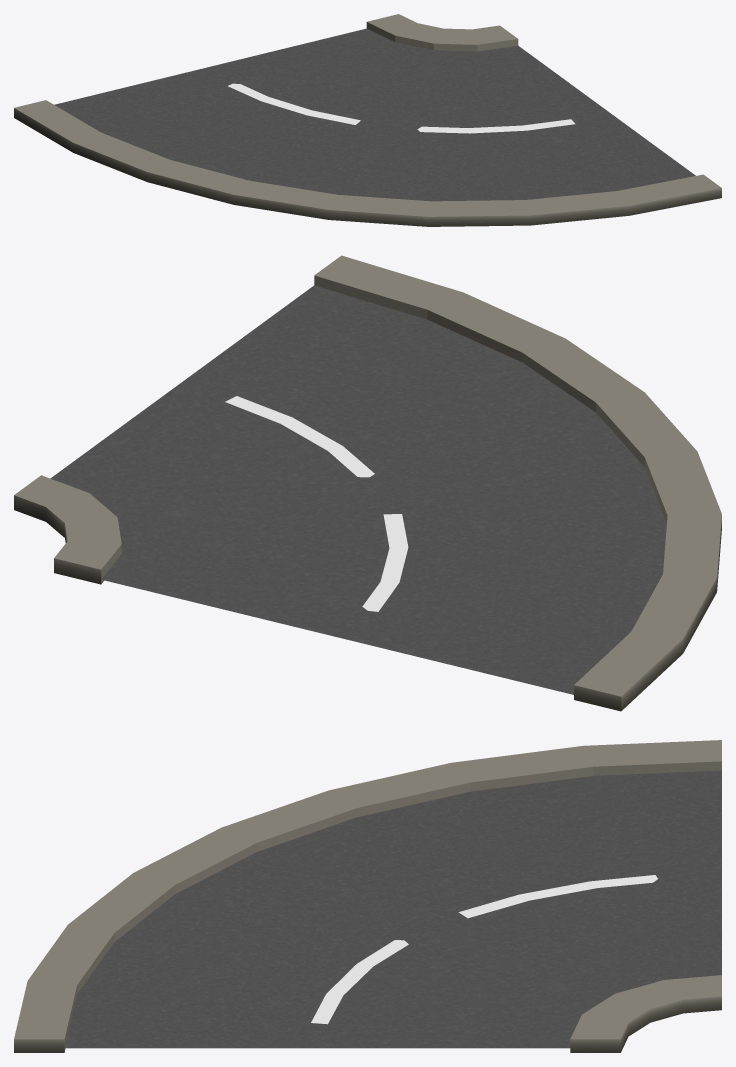
3 renders of one model, top to bottom at view 1: azimuth 30°, elevation 25°; view 2: azimuth 150°, elevation 25°; view 3: azimuth 270°, elevation 25°, orthographic. The views are drawn at different scales.
Visible parts, largest first — view 1: Road_1D; view 2: Road_1D; view 3: Road_1D.
Boxes of the visible parts, x1,y1,x2,y2 form: Road_1D: (14,14,721,226); Road_1D: (14,255,721,711); Road_1D: (14,740,721,1052).
Size of the model in its own units: 17440 by 374 by 17440.
